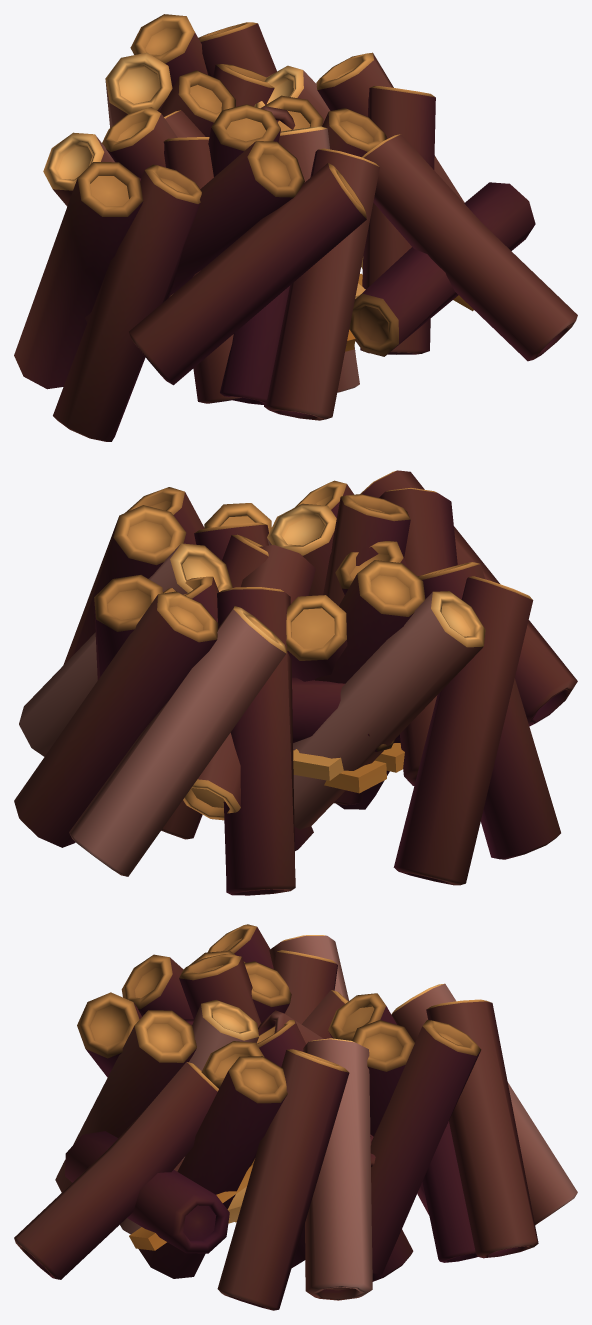
File: Bonfire.fbx
3 views of the same model, one above another, from view 1: azimuth 30°, elevation 25°; view 2: azimuth 150°, elevation 25°; view 3: azimuth 270°, elevation 25° (orthographic). The views are drawn at different scales.
Visible parts, largest first — view 1: Bonfire, logs2__2_, logs2, logs1__1_, logs2__3_, logs2__1_, logs1__2_; view 2: Bonfire, logs2__3_, logs2__2_, logs2__1_, logs2, logs1, planks2, logs1__2_; view 3: Bonfire, logs2__1_, logs2__3_, logs1__1_, logs2, planks, logs1__2_, logs2__2_.
Boxes of the visible parts, left/top/right/bottom form: Bonfire: left=53, top=14, right=577, bottom=437; logs2__2_: left=14, top=107, right=241, bottom=441; logs2: left=85, top=104, right=379, bottom=419; logs1__1_: left=355, top=134, right=577, bottom=354; logs2__3_: left=105, top=14, right=268, bottom=127; logs2__1_: left=254, top=52, right=434, bottom=354; logs1__2_: left=164, top=112, right=202, bottom=137; Bonfire: left=14, top=470, right=577, bottom=894; logs2__3_: left=54, top=575, right=313, bottom=895; logs2__2_: left=293, top=541, right=560, bottom=885; logs2__1_: left=19, top=487, right=268, bottom=839; logs2: left=270, top=470, right=577, bottom=805; logs1: left=187, top=545, right=344, bottom=819; planks2: left=293, top=743, right=403, bottom=793; logs1__2_: left=290, top=595, right=346, bottom=678; Bonfire: left=14, top=924, right=577, bottom=1310; logs2__1_: left=138, top=1020, right=412, bottom=1309; logs2__3_: left=336, top=984, right=577, bottom=1261; logs1__1_: left=17, top=1062, right=226, bottom=1273; logs2: left=60, top=954, right=258, bottom=1229; planks: left=129, top=1160, right=254, bottom=1249; logs1__2_: left=174, top=990, right=341, bottom=1171; logs2__2_: left=195, top=926, right=325, bottom=997.
Size of the model in its own units: 312 by 194 by 352.
Materials: 4 (4 with a texture image).
